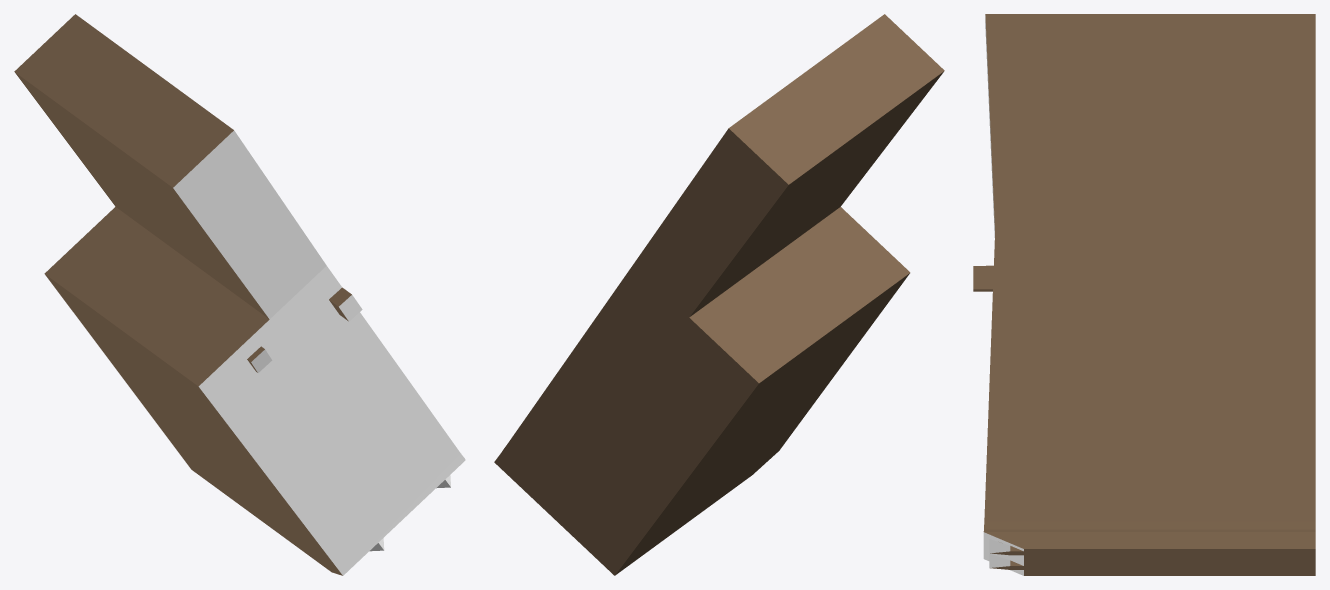
3 views of the same model, side by side, from view 1: azimuth 30°, elevation 25°; view 2: azimuth 150°, elevation 25°; view 3: azimuth 270°, elevation 25° (orthographic). The views are drawn at different scales.
Parts seen in each view (by area): view 1: City_PC-35036; view 2: City_PC-35036; view 3: City_PC-35036.
Boxes of the visible parts, x1,y1,x2,y2 form: City_PC-35036: [14, 14, 465, 575]; City_PC-35036: [494, 14, 944, 575]; City_PC-35036: [973, 14, 1315, 575].
Size of the model in its own units: 1567 by 2417 by 1490.
